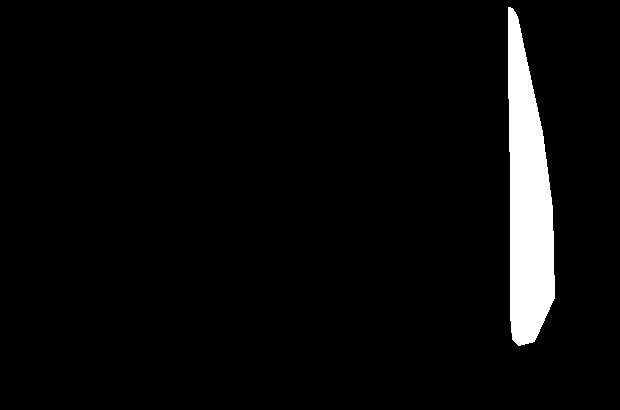type5: (503, 4, 562, 346)
